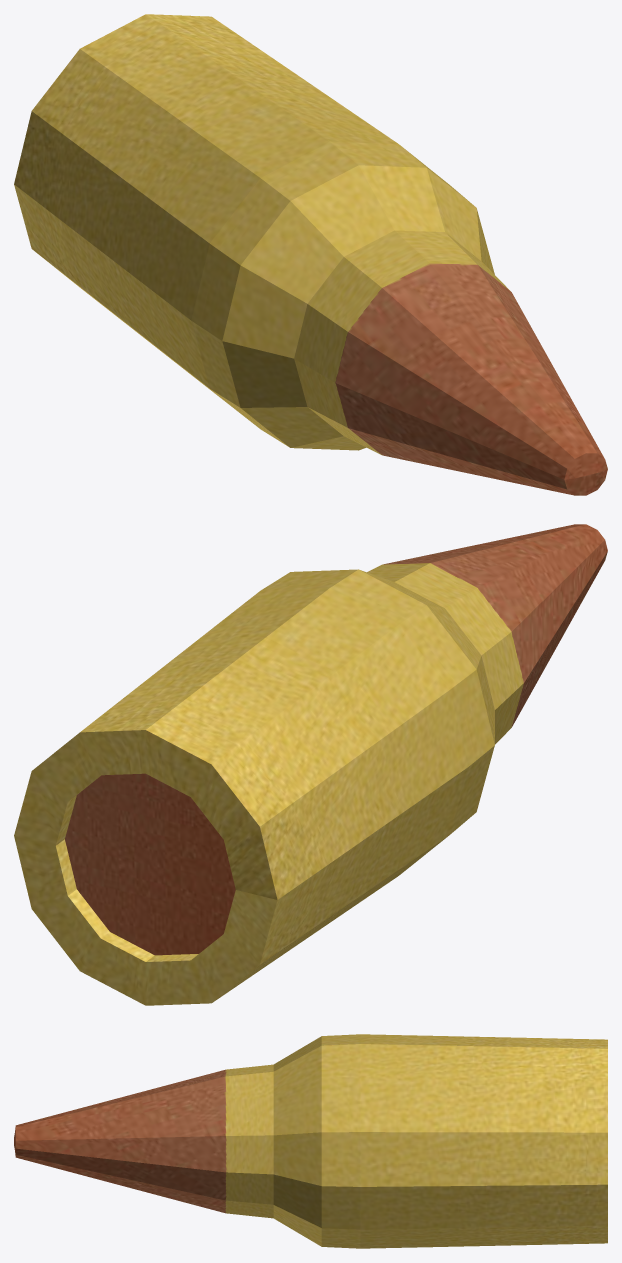
The model's file is Bullet.fbx.
The picture shows the model from 3 angles, top to bottom: view 1: azimuth 30°, elevation 25°; view 2: azimuth 150°, elevation 25°; view 3: azimuth 270°, elevation 25°; orthographic projection. The views are drawn at different scales.
Parts seen in each view (by area): view 1: Cylinder; view 2: Cylinder; view 3: Cylinder.
Boxes of the visible parts, x1=… form: Cylinder: x1=14, y1=14, x2=607, y2=495; Cylinder: x1=14, y1=524, x2=607, y2=1005; Cylinder: x1=14, y1=1034, x2=607, y2=1248.
Size of the model in its own units: 23.48 by 23.48 by 64.81.
